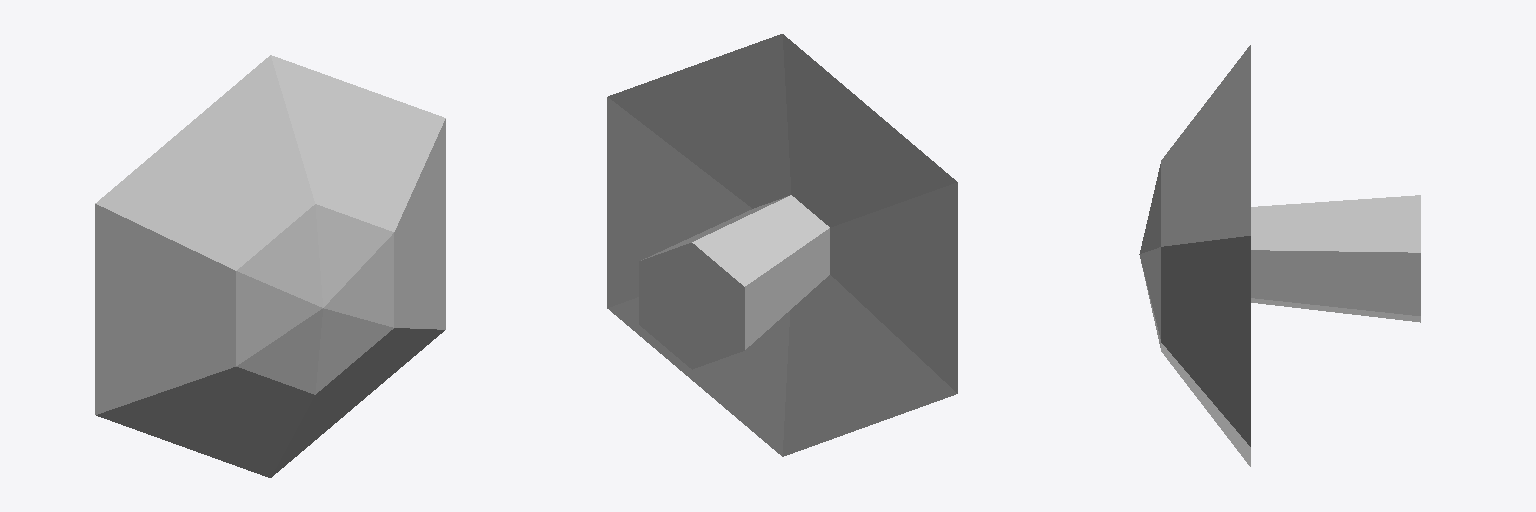
File: mushi1.obj
The picture shows the model from 3 angles: view 1: azimuth 30°, elevation 25°; view 2: azimuth 150°, elevation 25°; view 3: azimuth 270°, elevation 25°; orthographic projection.
Parts seen in each view (by area): view 1: Cylinder; view 2: Cylinder; view 3: Cylinder.
Boxes of the visible parts, x1=… form: Cylinder: x1=95, y1=55, x2=445, y2=477; Cylinder: x1=607, y1=34, x2=957, y2=456; Cylinder: x1=1139, y1=45, x2=1420, y2=466.
Bounding box in the file's own units: 0.3273 × 0.3779 × 0.2273.